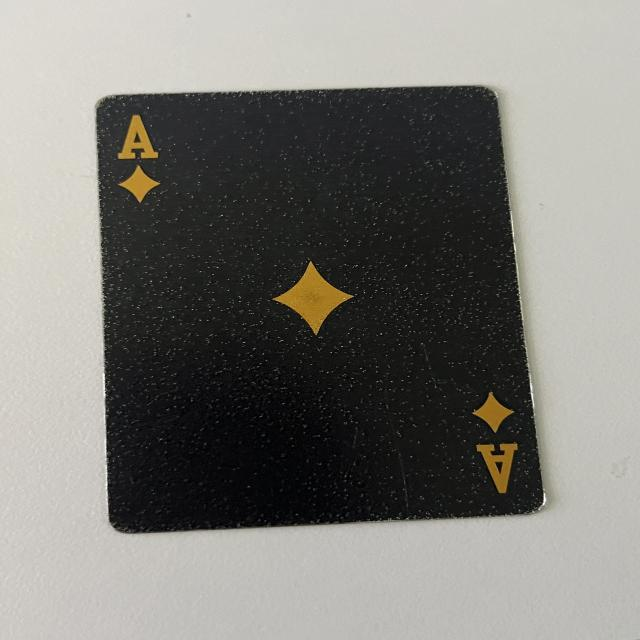AD: (460, 386, 532, 504), (105, 112, 171, 206)
